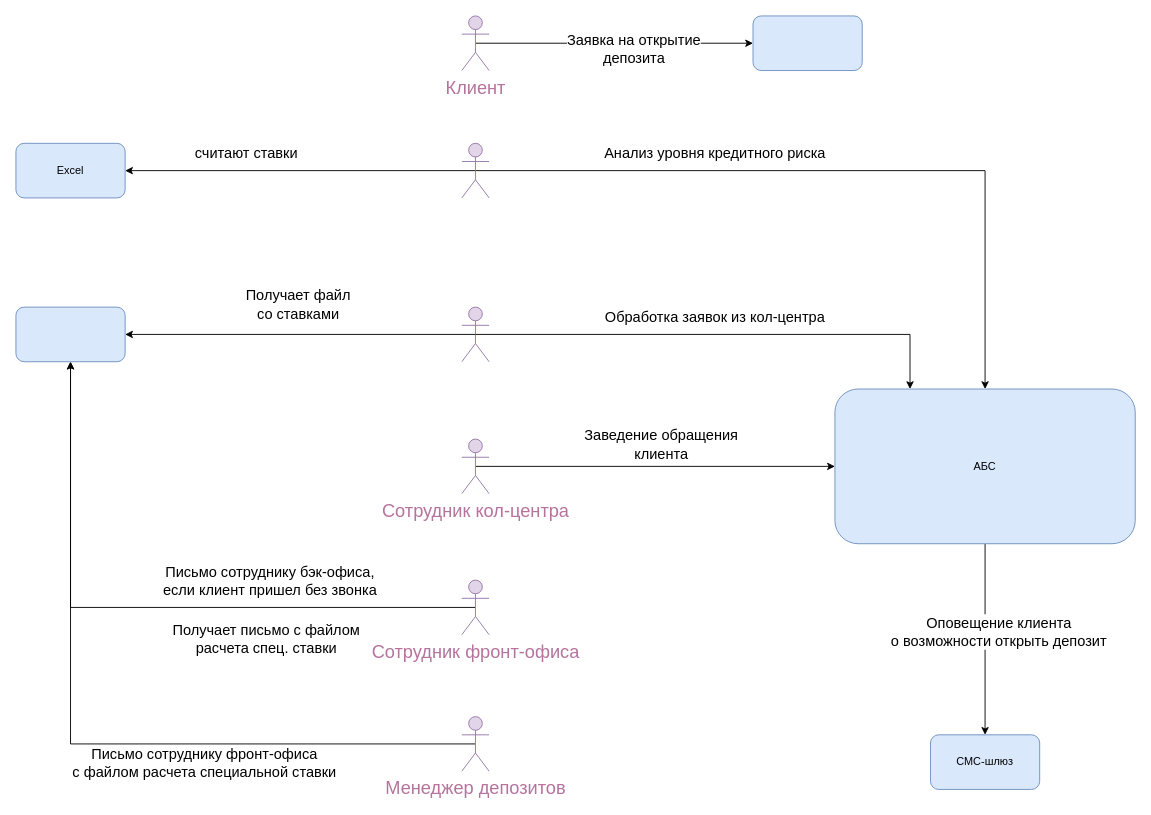
The diagram is 1151 pixels wide and 815 high, and some of its shapes have lost their labels. Each missing label, with the centre of its shape:
E-mail: the point at 70,334
Кол-центр: the point at 807,43
Сотрудник бэк-офиса: the point at 475,334
Сотрудник отдела кредитования: the point at 475,170
